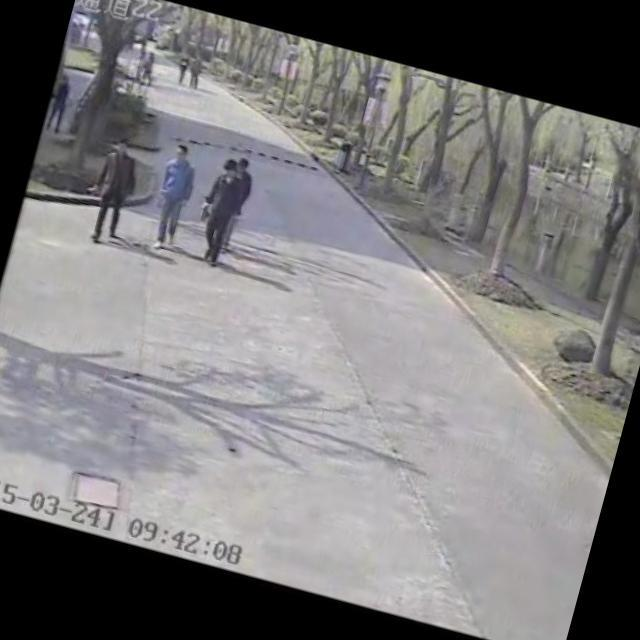person: (70, 125, 155, 256), (184, 147, 254, 276), (139, 138, 210, 260), (39, 70, 80, 142), (181, 47, 212, 97), (166, 50, 194, 89)
